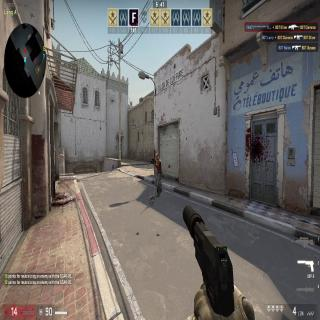CT-Body: (155, 154, 162, 196)
CT-Head: (247, 126, 251, 134), (156, 154, 158, 160)
